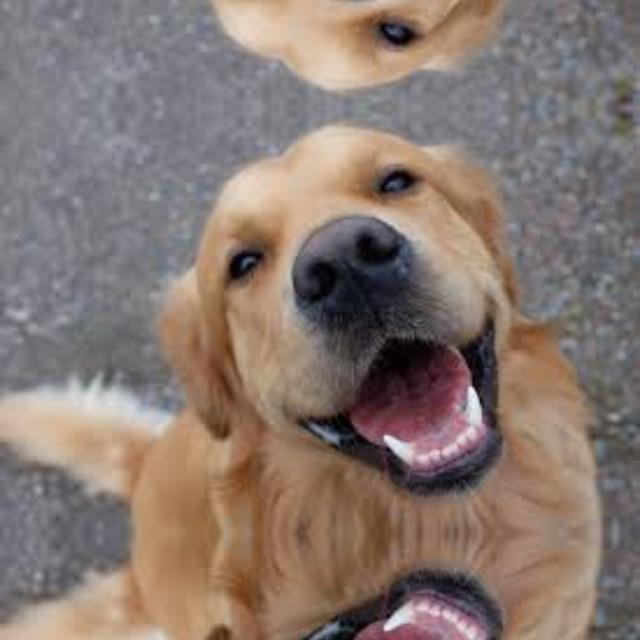dog: (94, 109, 640, 534), (94, 532, 640, 640), (94, 0, 640, 105)
